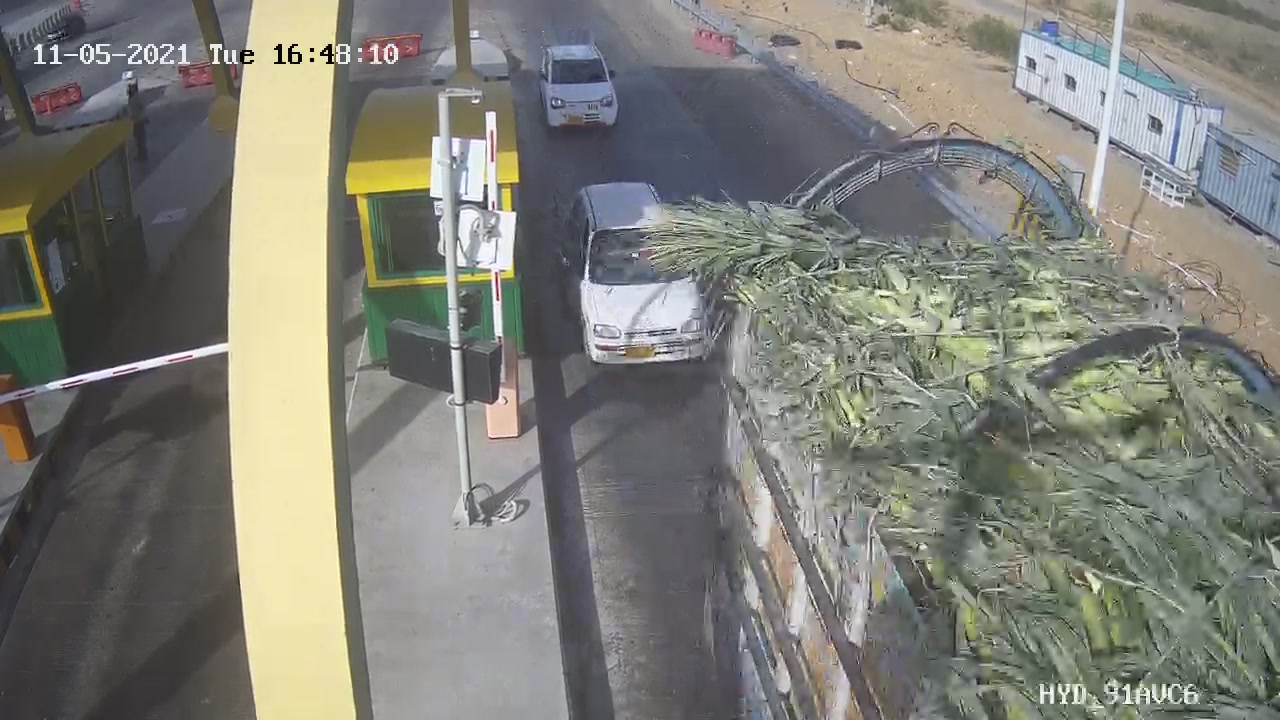F1: (540, 172, 743, 382), (529, 35, 638, 143)
